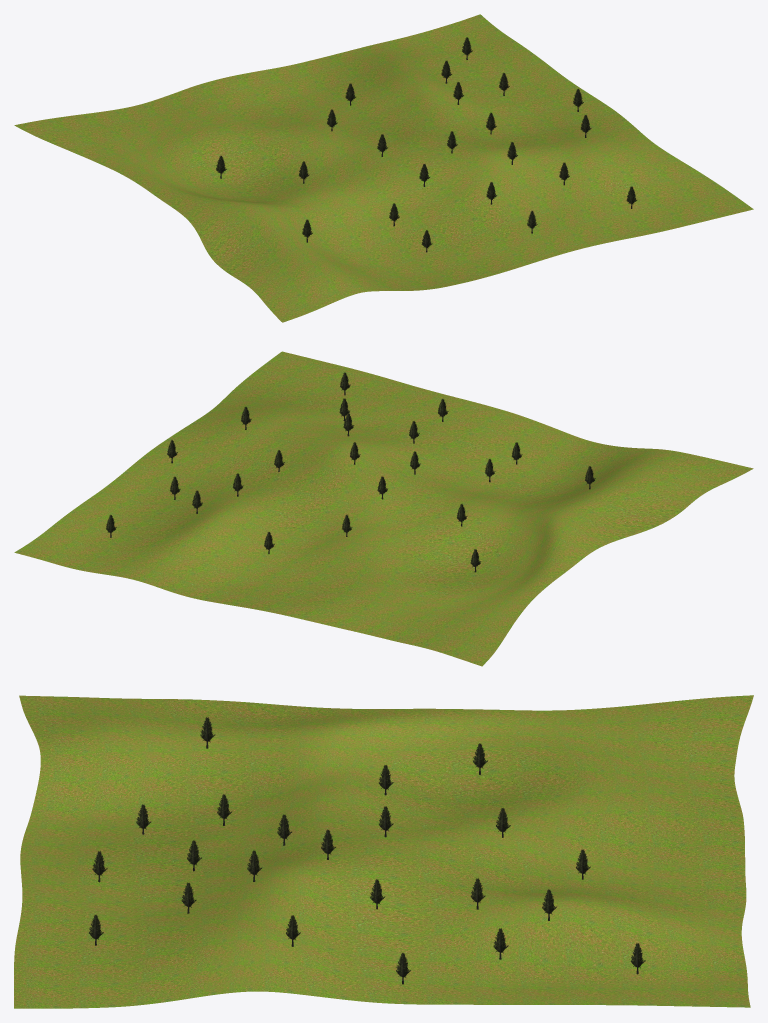
File: forest.glb
3 views of the same model, one above another, from view 1: azimuth 30°, elevation 25°; view 2: azimuth 150°, elevation 25°; view 3: azimuth 270°, elevation 25° (orthographic). The views are drawn at different scales.
Parts seen in each view (by area): view 1: Plane; view 2: Plane; view 3: Plane.
Part boxes in pixels (x1,y1,x2,y2): Plane: [14, 14, 753, 322]; Plane: [14, 351, 753, 666]; Plane: [14, 695, 753, 1008].
Bounding box in the file's own units: 134 × 14.46 × 134.
Materials: 6 (6 with a texture image).
